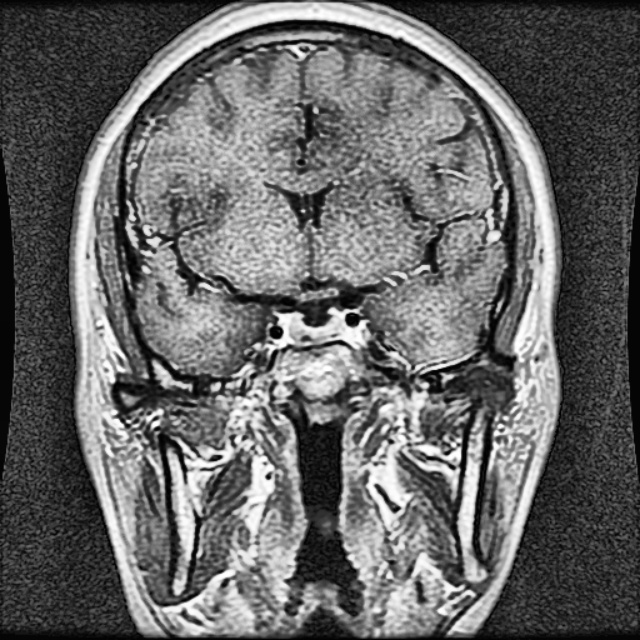Pituitary: (282, 312, 347, 347)
